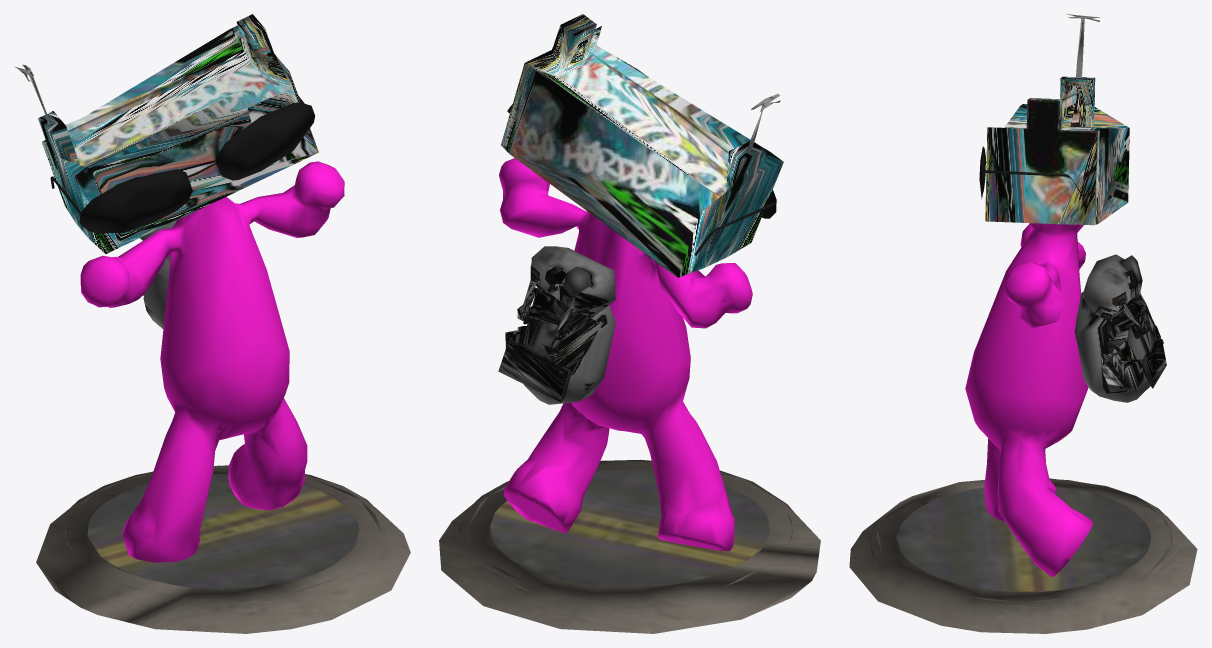
3 views of the same model, side by side, from view 1: azimuth 30°, elevation 25°; view 2: azimuth 150°, elevation 25°; view 3: azimuth 270°, elevation 25° (orthographic). The views are drawn at different scales.
Bounding box in the file's own units: 1.47 × 2.2 × 1.44.
Materials: 7 (4 with a texture image).
